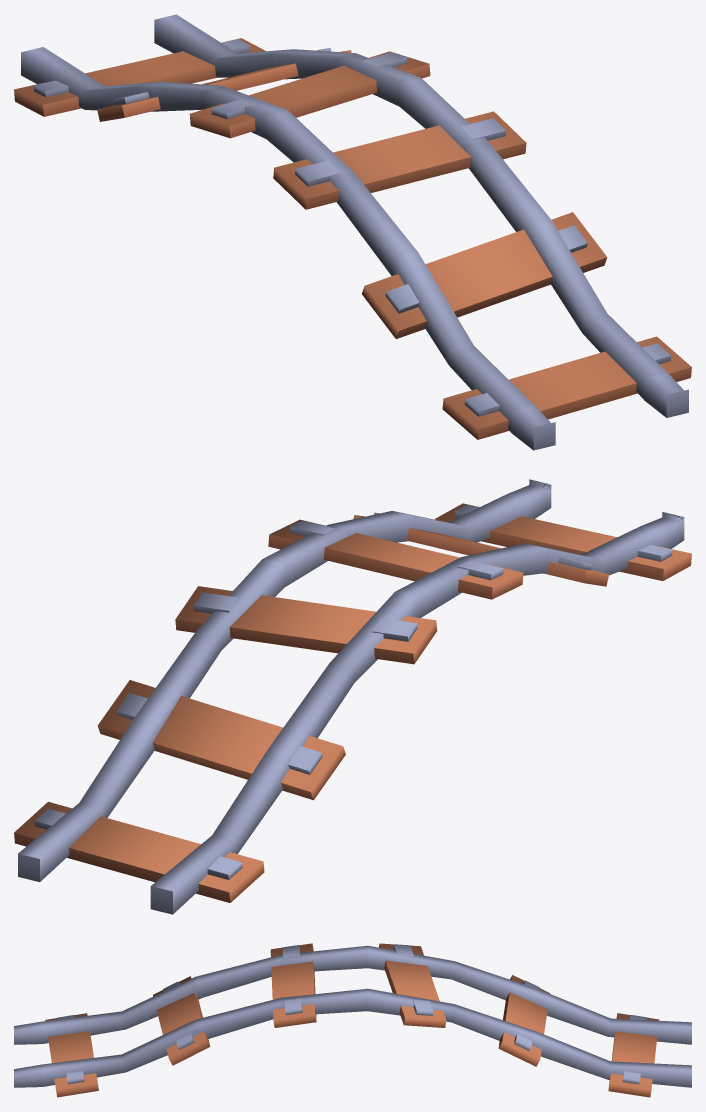
File: railroad-damaged-straight-bump-up.glb
3 renders of one model, top to bottom at view 1: azimuth 30°, elevation 25°; view 2: azimuth 150°, elevation 25°; view 3: azimuth 270°, elevation 25°, orthographic. The views are drawn at different scales.
Parts seen in each view (by area): view 1: railroad-damaged-straight-bump-up; view 2: railroad-damaged-straight-bump-up; view 3: railroad-damaged-straight-bump-up.
Part boxes in pixels (left/top/right/bottom): railroad-damaged-straight-bump-up: left=14, top=14, right=691, bottom=450; railroad-damaged-straight-bump-up: left=14, top=479, right=691, bottom=914; railroad-damaged-straight-bump-up: left=14, top=943, right=691, bottom=1097.
Bounding box in the file's own units: 1.03 × 0.5987 × 4.
